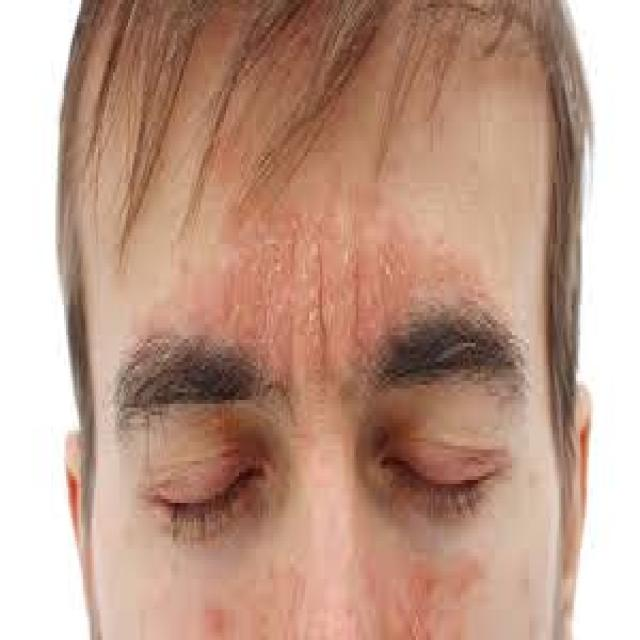Eczema: (229, 200, 422, 356), (385, 558, 470, 634), (198, 590, 268, 638)
